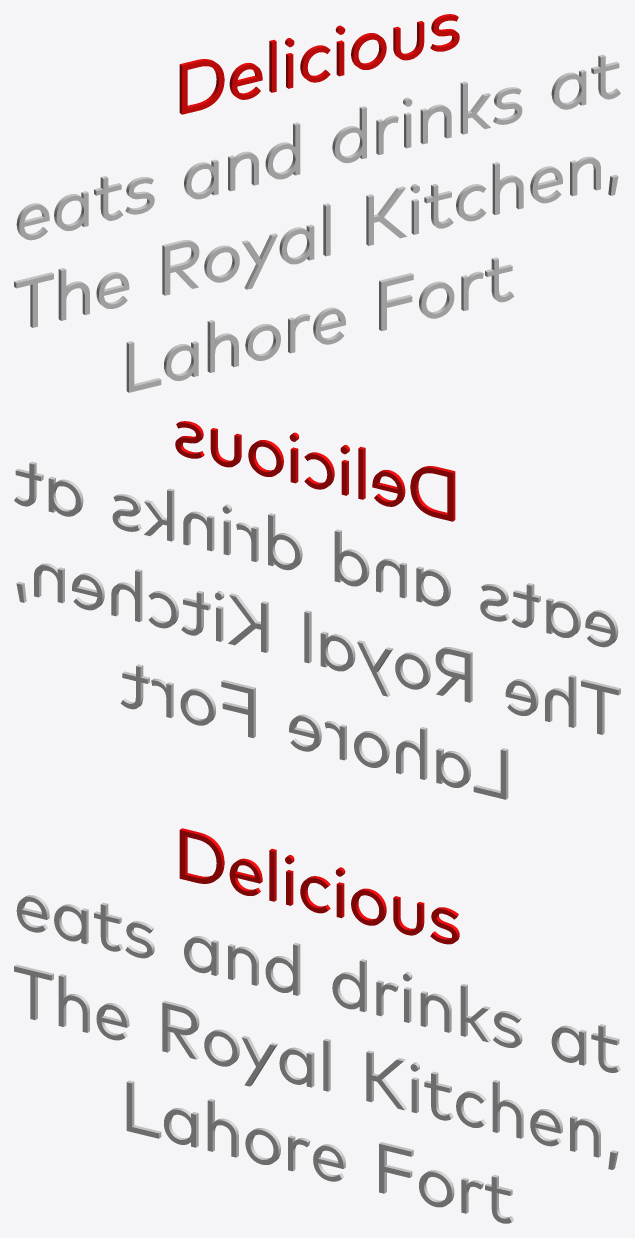
File: Delicious eats and drinks at The Royal Kitchen, Lahore Fort.fbx
The picture shows the model from 3 angles, top to bottom: view 1: azimuth 30°, elevation 25°; view 2: azimuth 150°, elevation 25°; view 3: azimuth 330°, elevation 25°; orthographic projection.
Visible parts, largest first — view 1: Text001; view 2: Text001; view 3: Text001.
Part boxes in pixels (left/top/right/bottom): Text001: left=14, top=14, right=620, bottom=392; Text001: left=14, top=421, right=620, bottom=799; Text001: left=14, top=828, right=620, bottom=1223.
Bounding box in the file's own units: 430 × 215 × 3.
